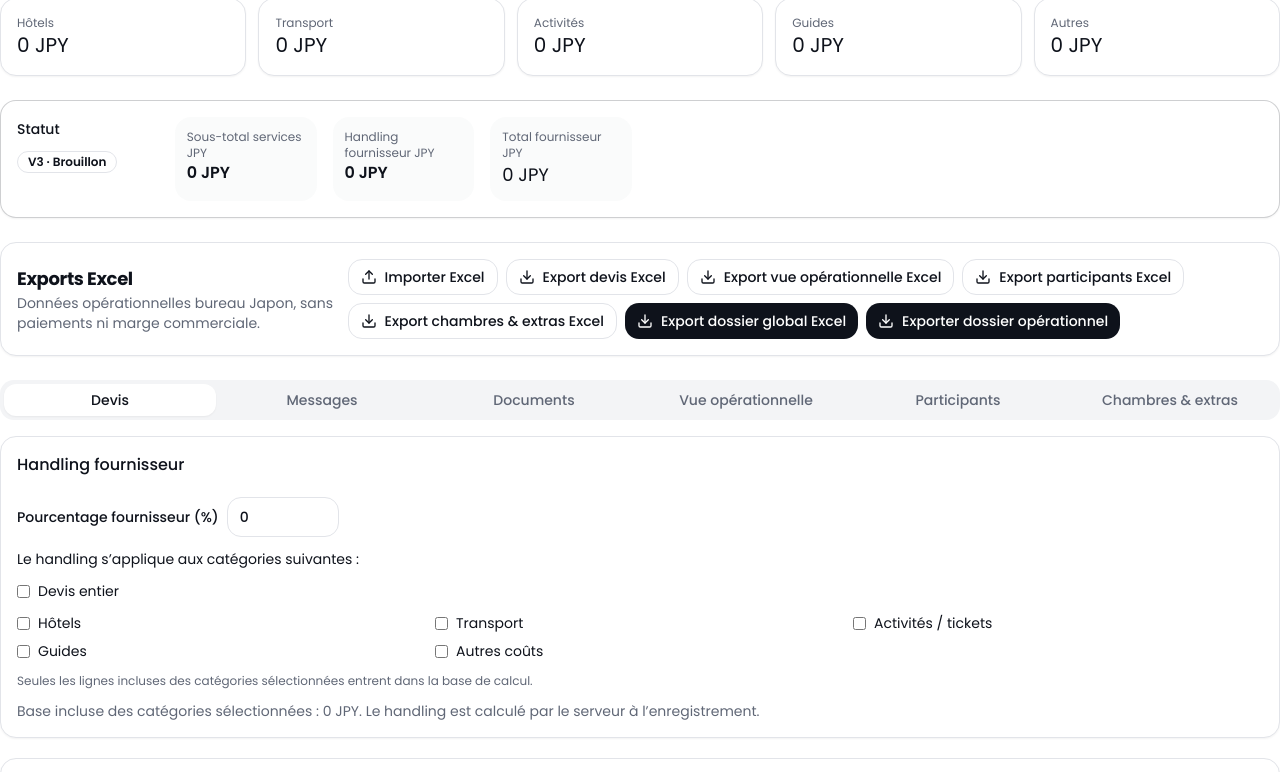
Scenario: existing Messages/Documents backend integration › surfaces trip_message_attachments query errors without displaying a false empty result
(page scrolled)
Press the mouse on the tab "Messages" at [322, 400], box left=216, top=384, right=428, bottom=416
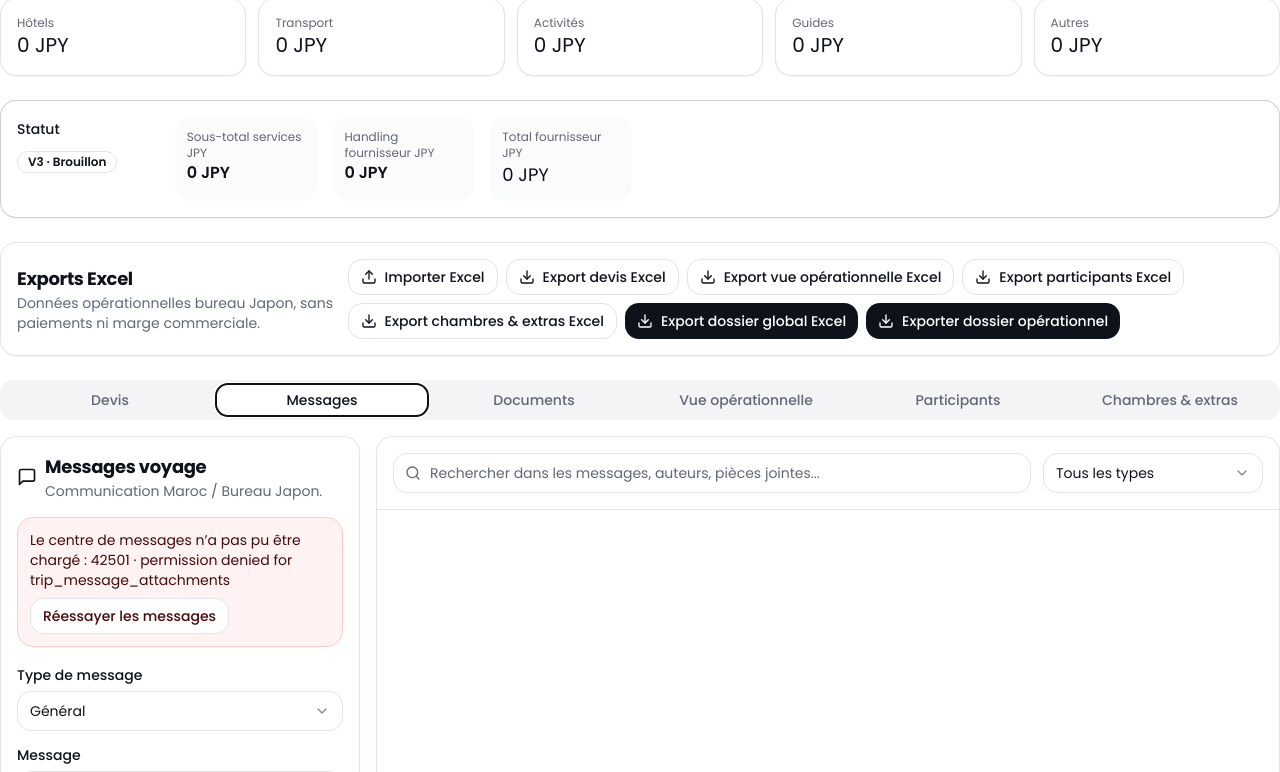
Now the message shows "42501", box left=30, top=550, right=292, bottom=590
Now the message shows "trip_message_attachments", box left=30, top=550, right=292, bottom=590
